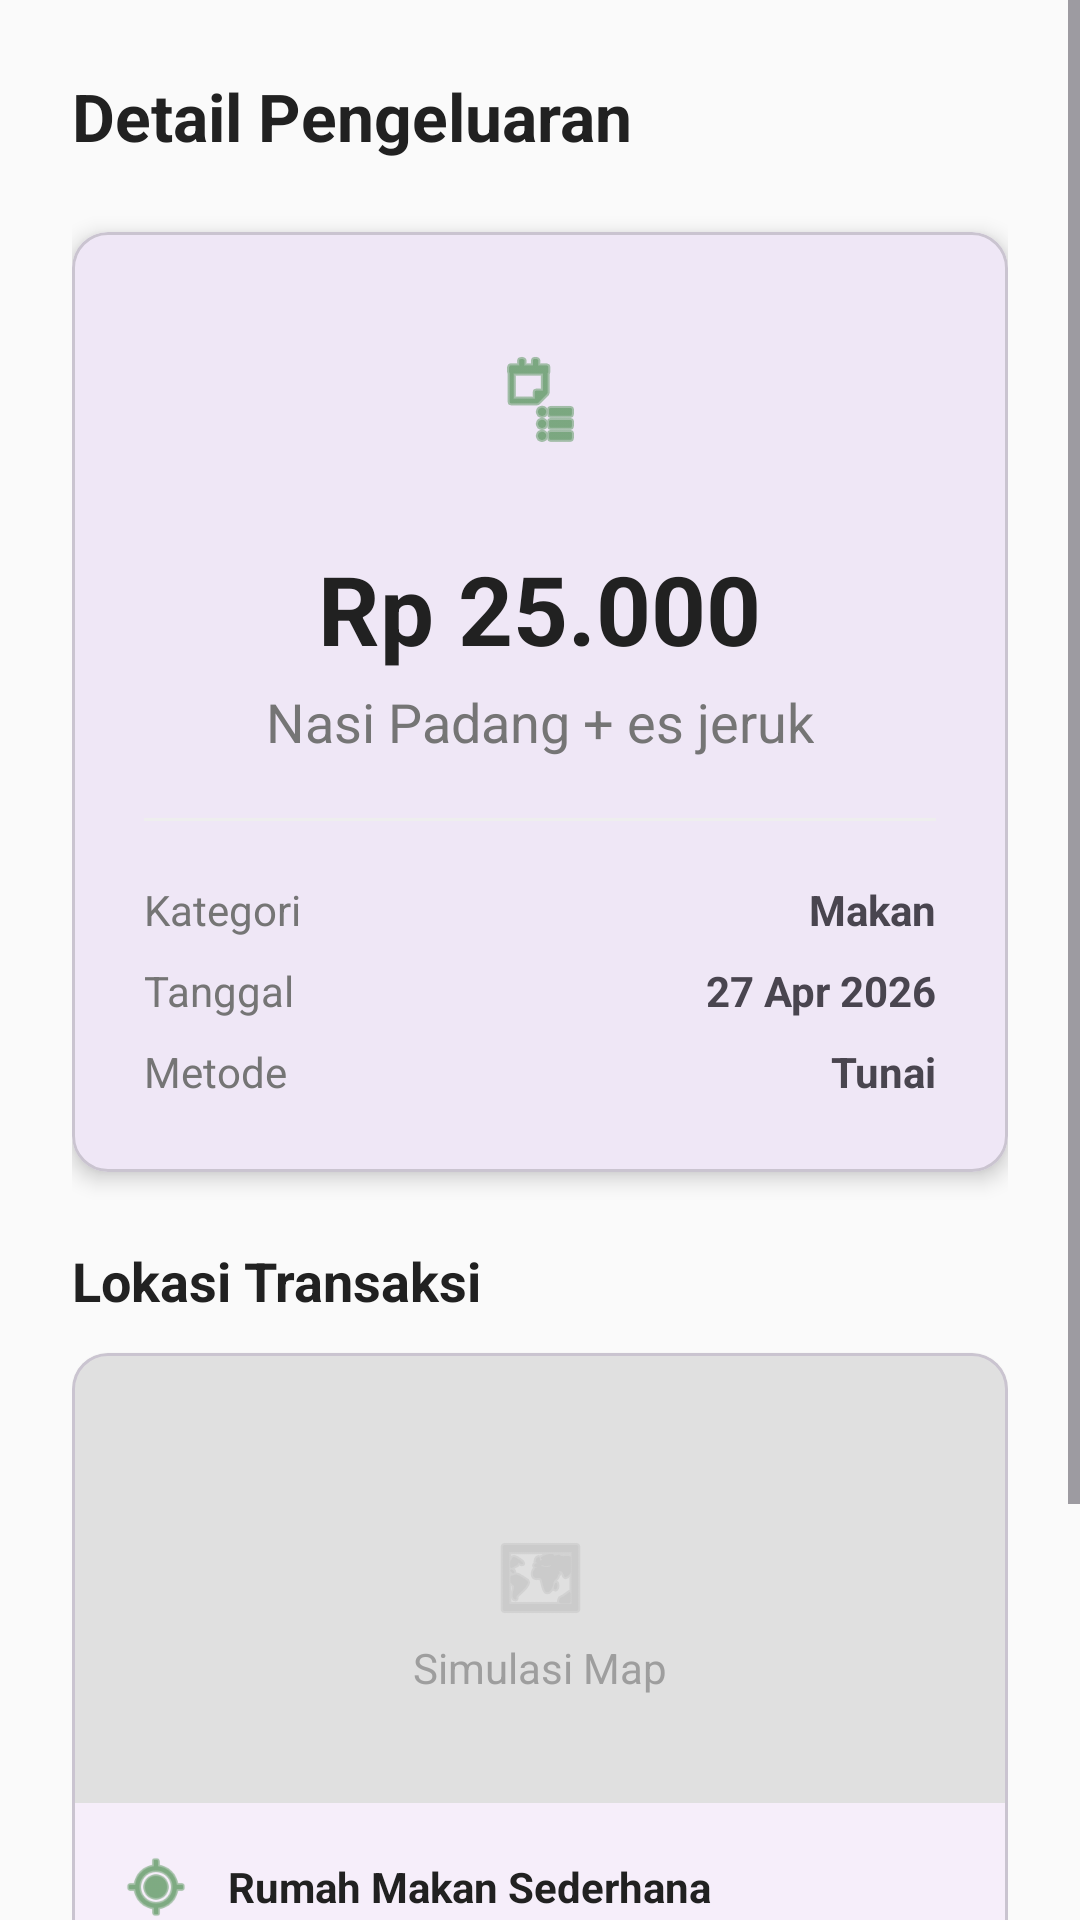

Icons on this 1080px x 1920px Android screen, each with the point to tap as point (x, y):
agenda: point (540, 399)
mylocation: point (156, 1887)
